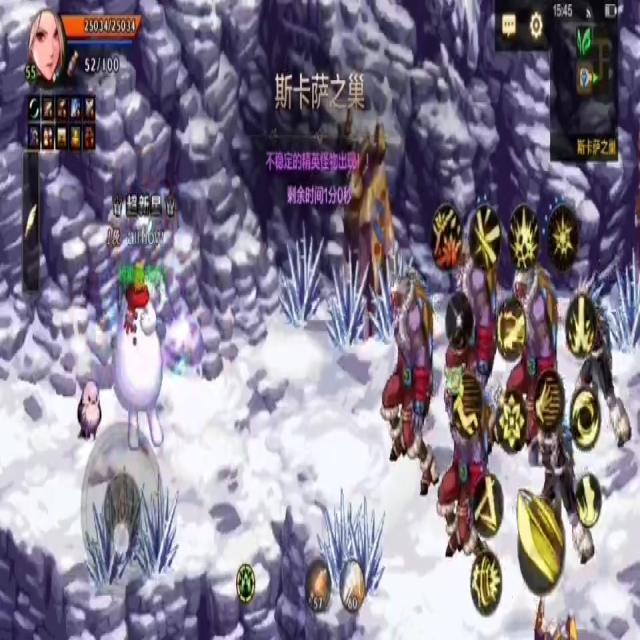player: (113, 255, 168, 452)
